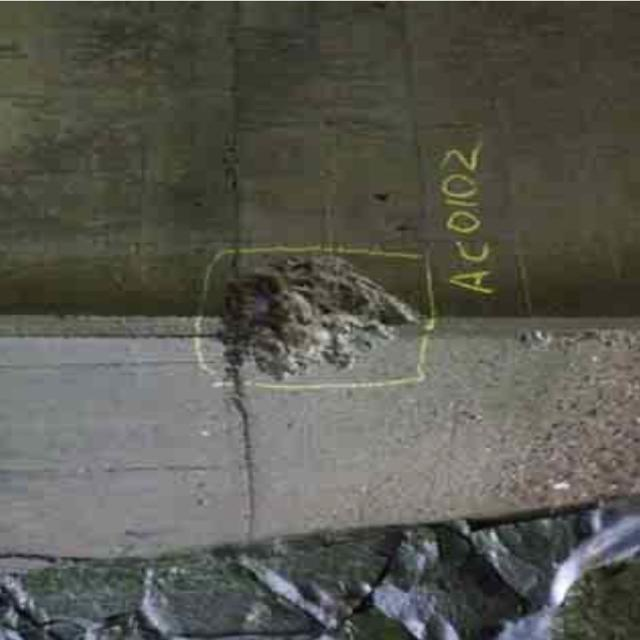spalling: (200, 239, 443, 407)
